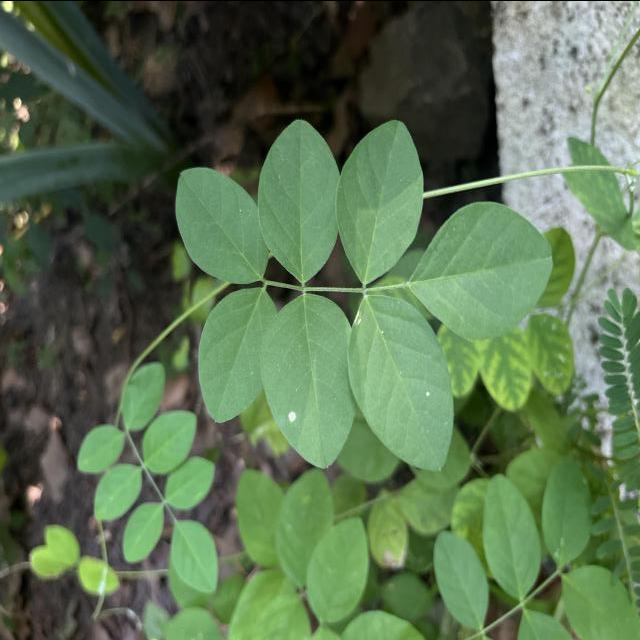Clitoria ternatea: (407, 198, 555, 342), (346, 292, 456, 472), (258, 291, 359, 468), (334, 115, 424, 283), (256, 116, 340, 281), (196, 284, 280, 423), (174, 163, 270, 284)
